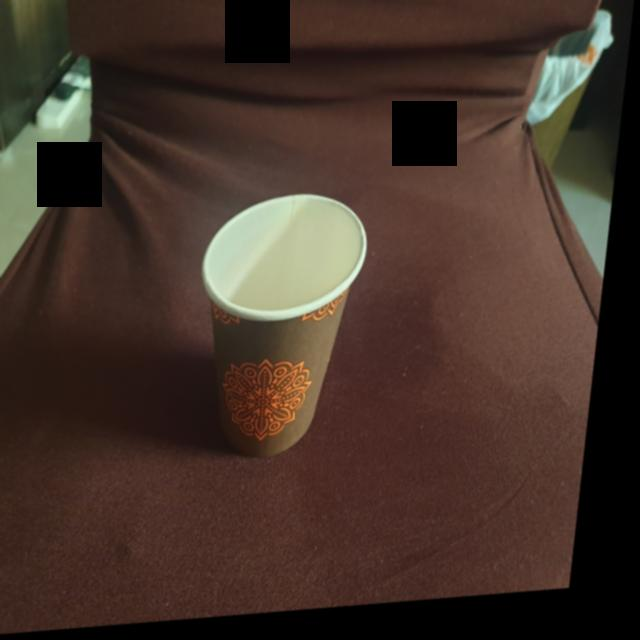cups: (184, 183, 389, 481)
